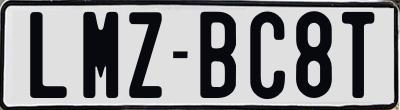8: (293, 9, 334, 102)
B: (200, 9, 241, 101)
C: (248, 9, 285, 102)
L: (30, 9, 67, 100)
M: (80, 11, 120, 103)
T: (340, 12, 378, 102)
Z: (128, 9, 166, 101)
